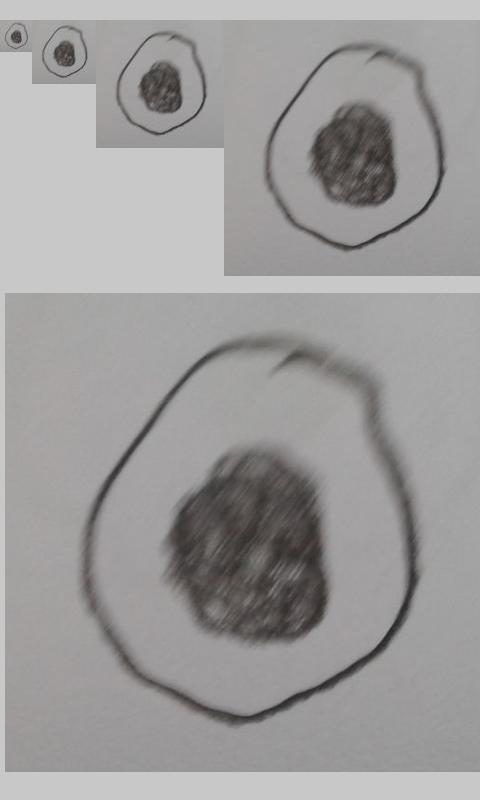radio_button: (77, 333, 421, 729), (263, 40, 447, 253), (116, 31, 208, 136), (41, 24, 88, 79), (4, 22, 29, 50)
